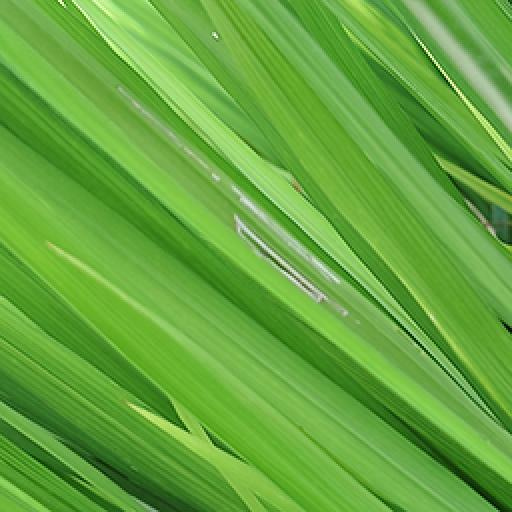Bacterial Leaf Blight: (112, 68, 404, 318)
Healthy Leaf: (6, 320, 512, 512), (2, 4, 106, 324), (400, 64, 512, 324), (112, 0, 508, 64)
